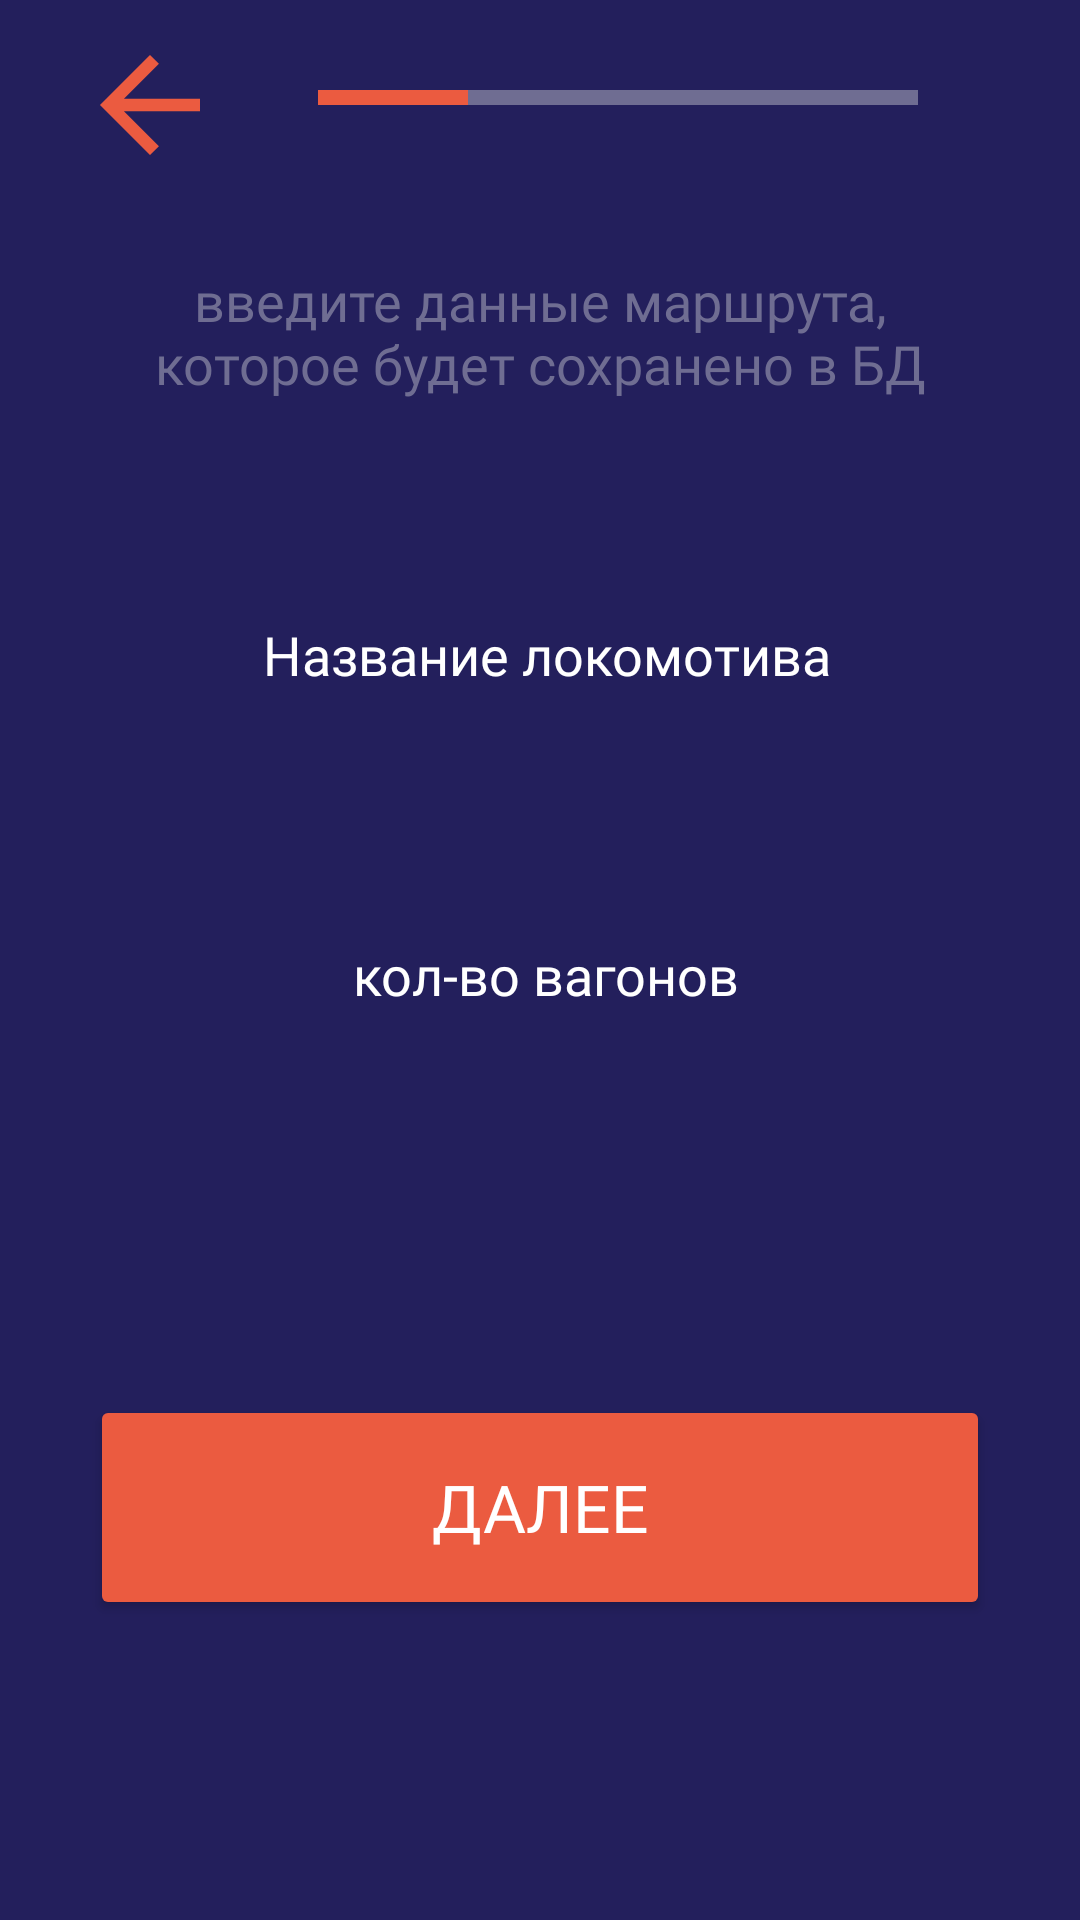

Named icons in this screenshot (1080px×1920px) and their bounding boxes, (x1, y1, x2, y2):
back: (100, 55, 200, 155)
